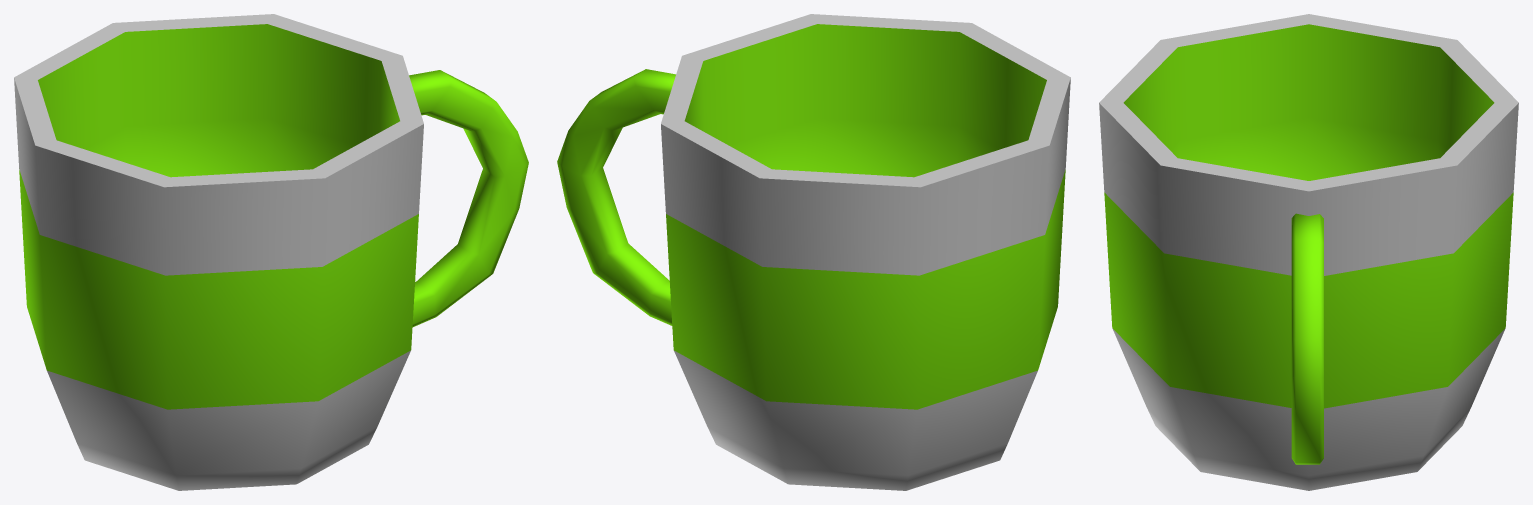
Rendered from Coffee_Cup_15.FBX.
3 views of the same model, side by side, from view 1: azimuth 30°, elevation 25°; view 2: azimuth 150°, elevation 25°; view 3: azimuth 270°, elevation 25° (orthographic).
Visible parts, largest first — view 1: Coffee Cup; view 2: Coffee Cup; view 3: Coffee Cup.
Boxes of the visible parts, box(x1,y1,x2,y2) form: Coffee Cup: box(14, 14, 528, 490); Coffee Cup: box(557, 14, 1070, 490); Coffee Cup: box(1099, 14, 1518, 490).
Size of the model in its own units: 44.01 by 28.24 by 33.22.
